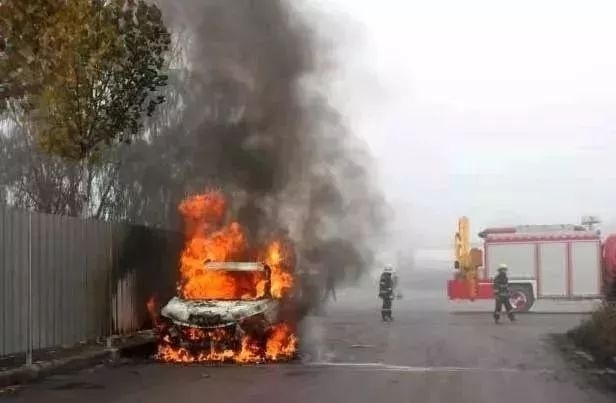fire: (148, 191, 302, 365)
